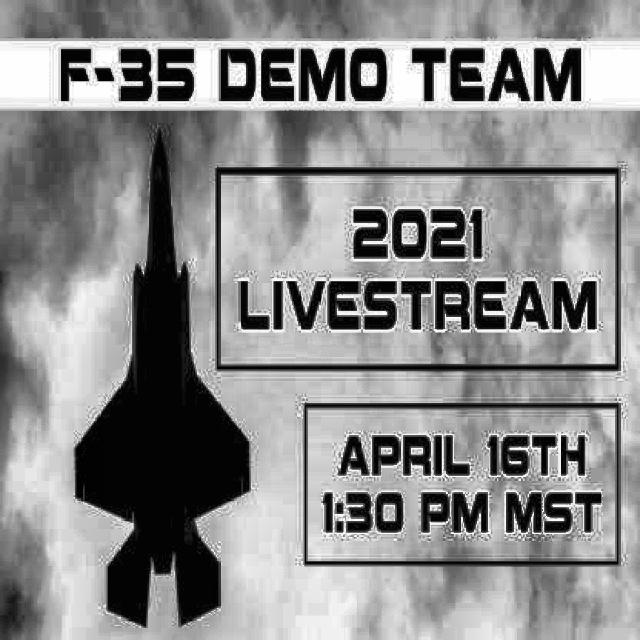F35: (75, 128, 250, 629)
